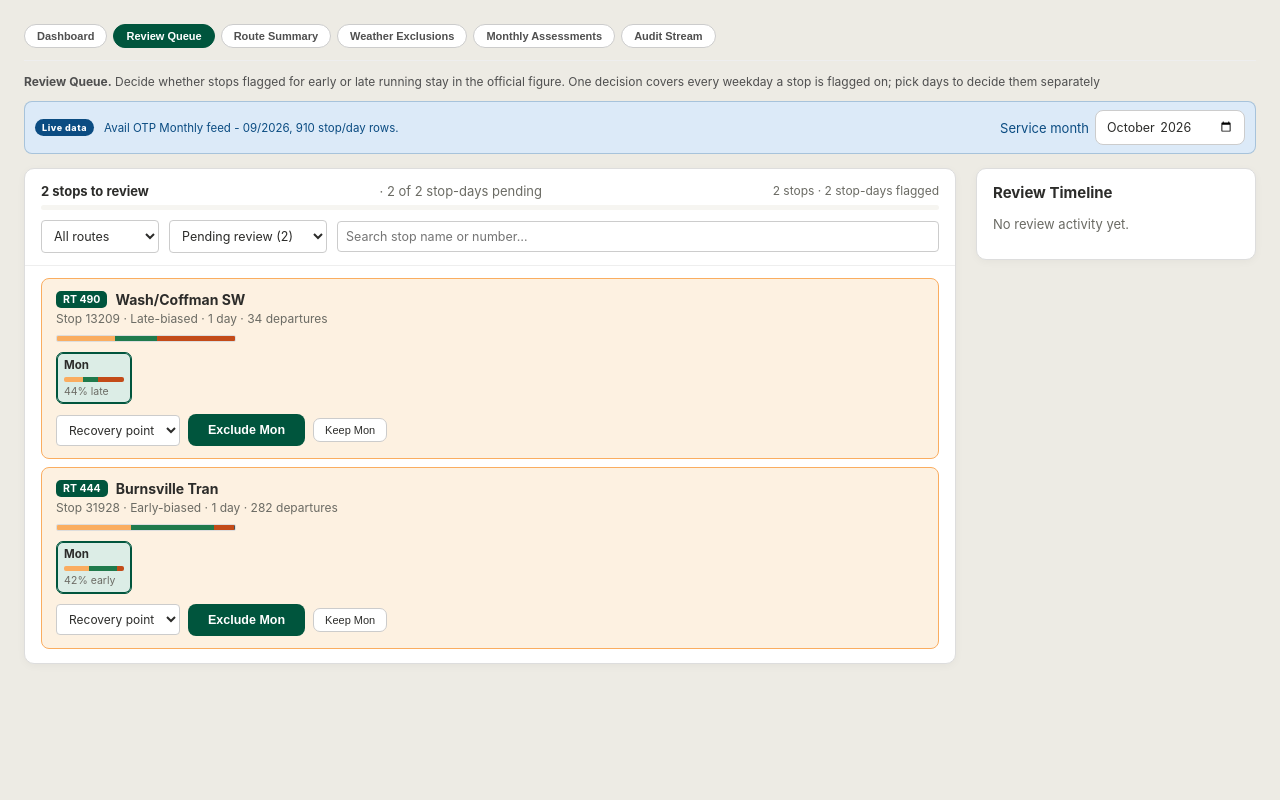
approving a weather day › re-reads the month, because approving moves the official figure
The image size is (1280, 800).
Click the button "Weather Exclusions".
click(402, 36)  # box [337,24,467,48]
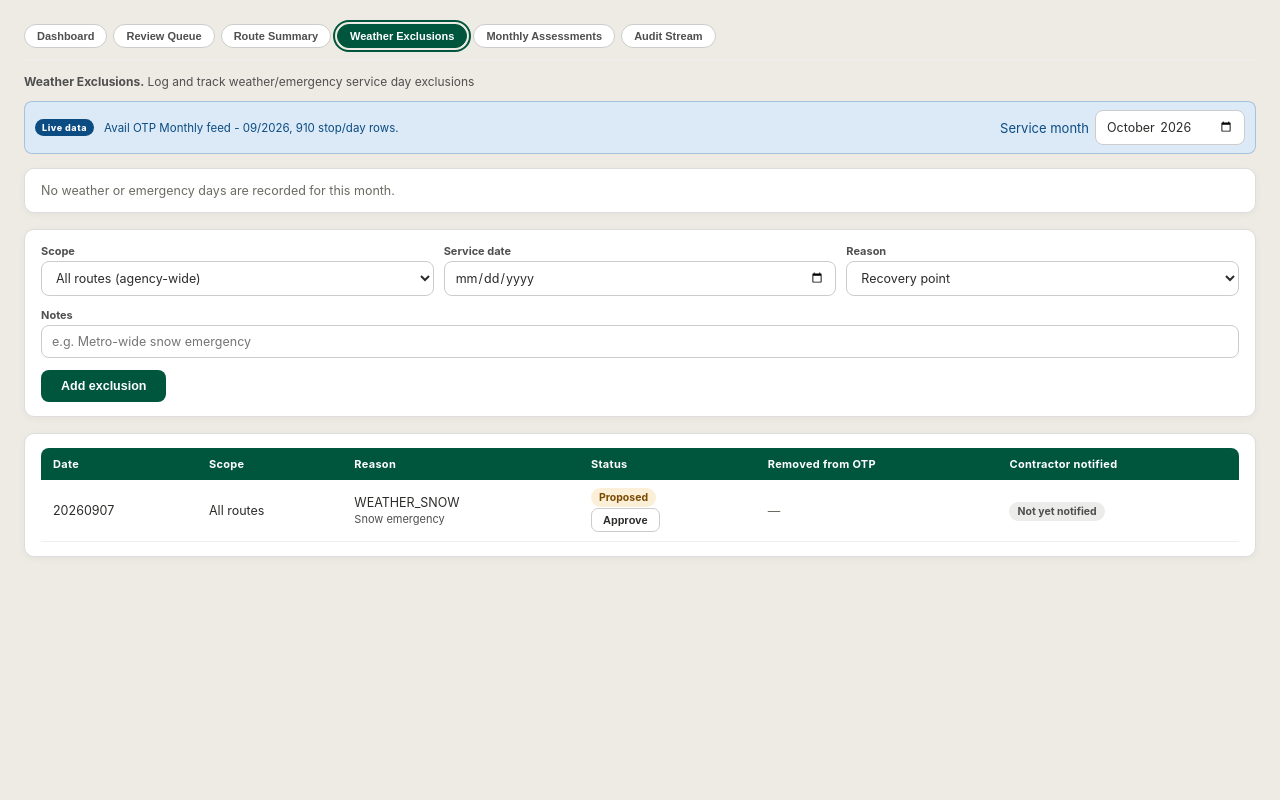
Check: the button "Approve" is shown
Click the button "Approve".
click(625, 520)  # box [591,508,660,532]
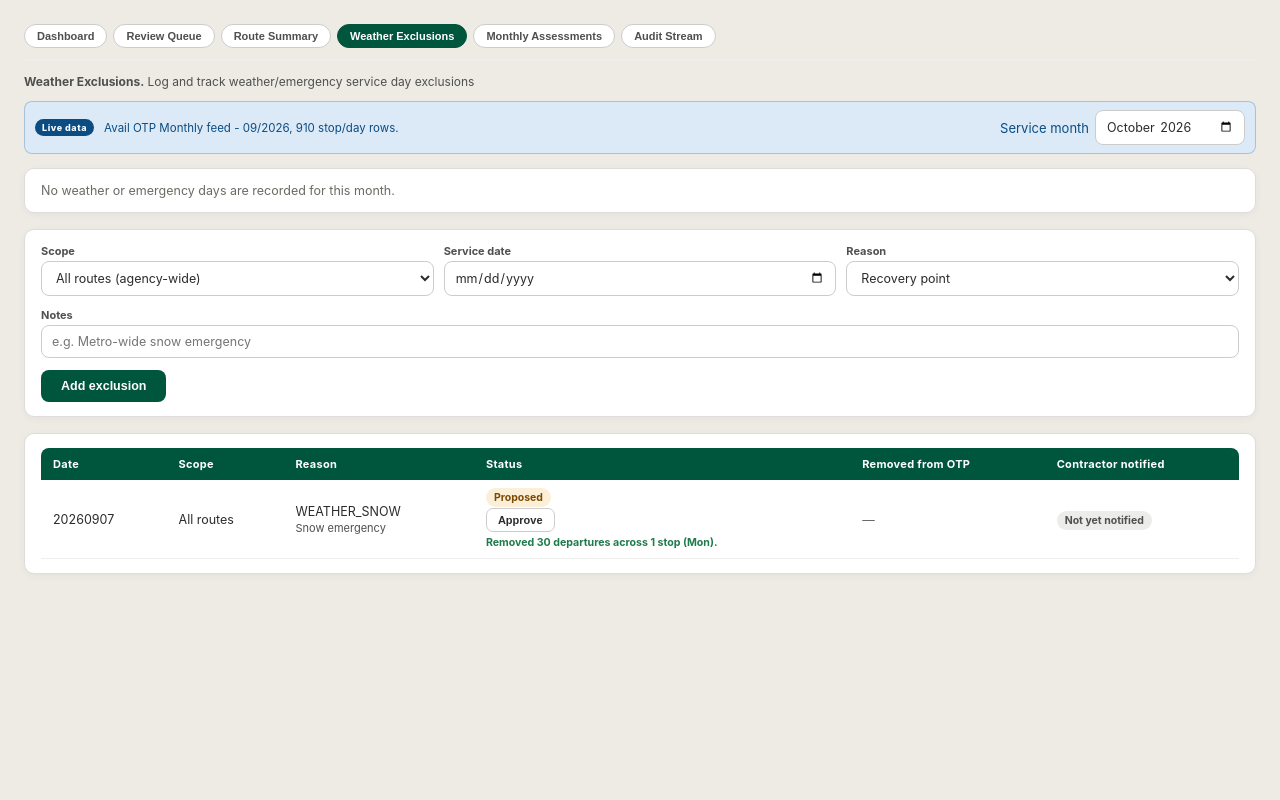
Check: the text "Removed 30 departures across 1 stop (Mon)." is shown, box [486,536,718,549]
